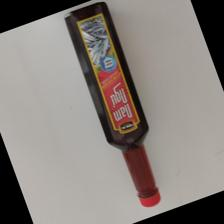Namngu: (63, 3, 161, 207)
